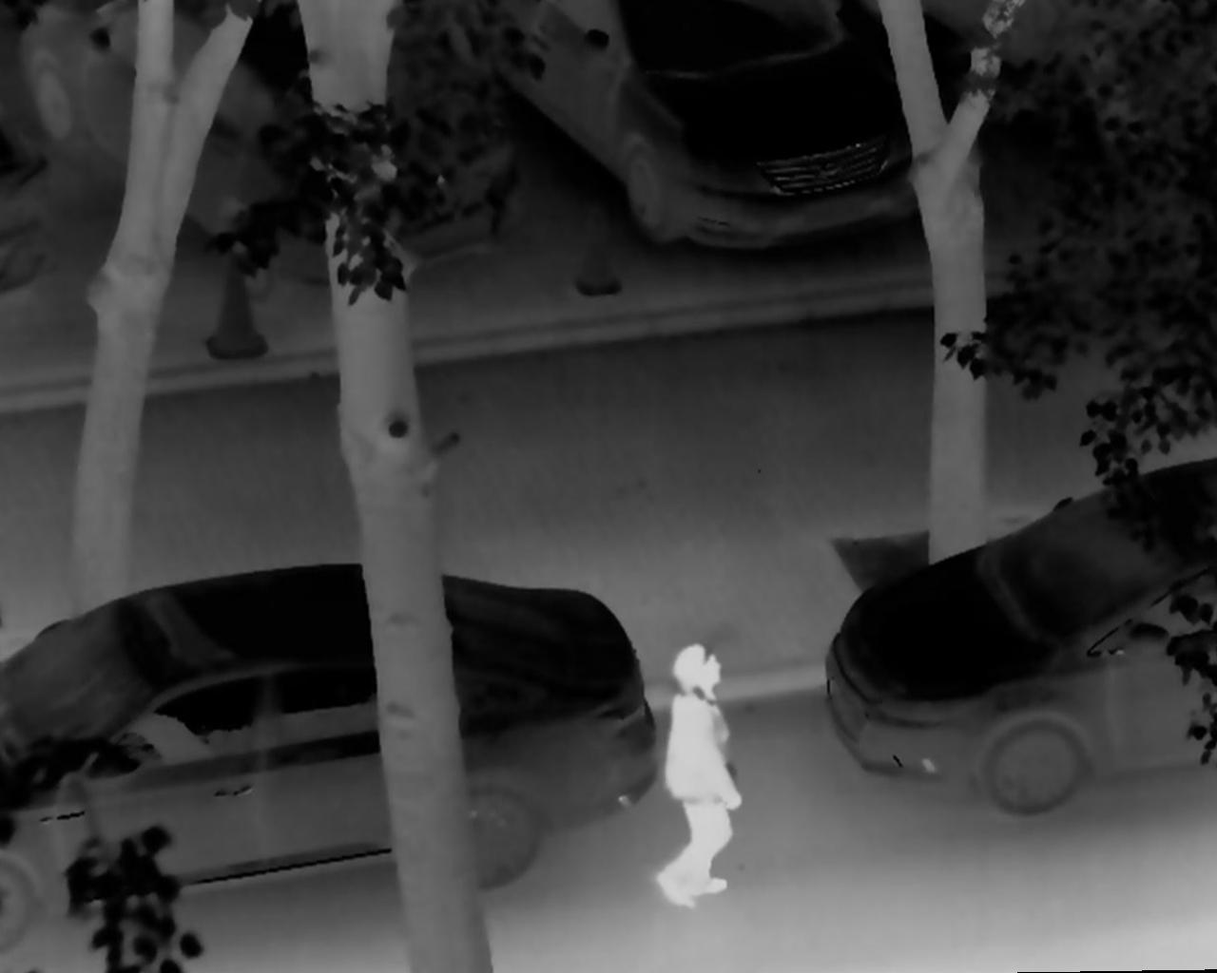person: (640, 638, 739, 912)
